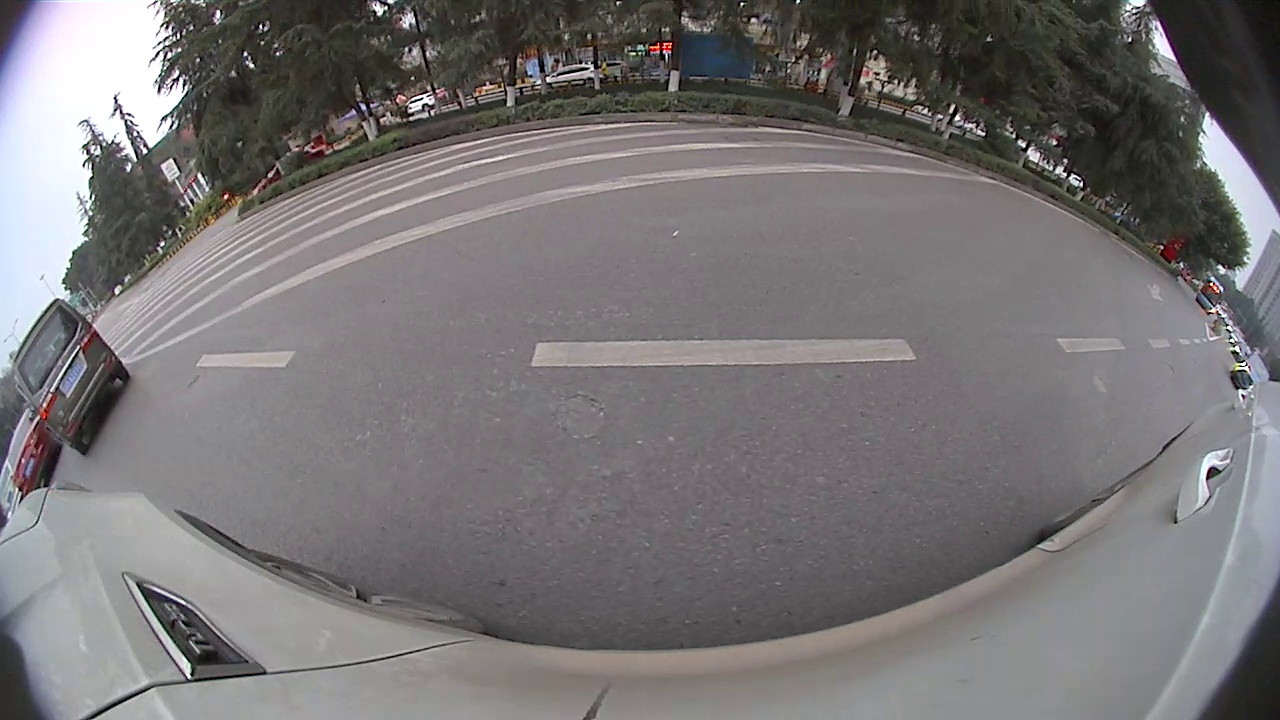car: (301, 2, 978, 321), (874, 70, 1030, 245), (131, 154, 268, 258), (1161, 366, 1251, 479), (4, 305, 74, 399), (62, 227, 124, 294), (1030, 193, 1084, 262), (1149, 314, 1201, 371), (1123, 280, 1167, 324)
front: (855, 224, 943, 315), (183, 212, 207, 240), (1003, 212, 1026, 239)
rear: (373, 197, 509, 322), (141, 234, 164, 257), (1045, 230, 1060, 244)
